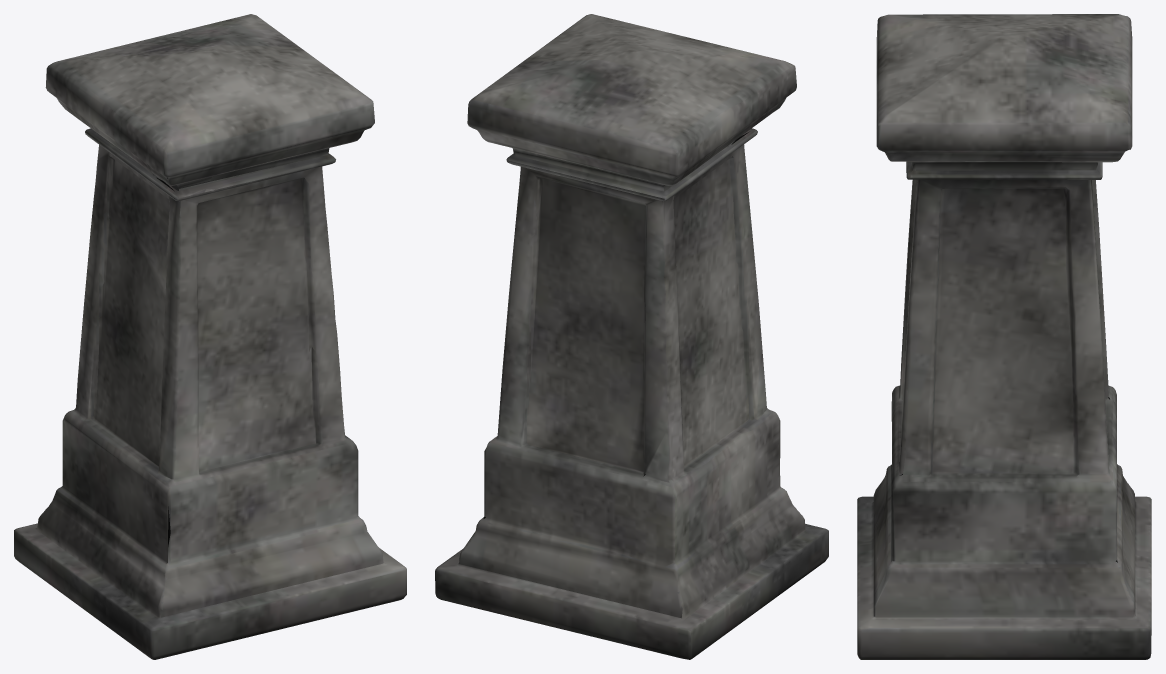
The model's file is old-granite-gate-pillar-v001.glb.
3 renders of one model, left to right at view 1: azimuth 30°, elevation 25°; view 2: azimuth 150°, elevation 25°; view 3: azimuth 270°, elevation 25°, orthographic. The views are drawn at different scales.
Parts seen in each view (by area): view 1: old-granite-gate-pillar; view 2: old-granite-gate-pillar; view 3: old-granite-gate-pillar.
Part boxes in pixels (x1=…): old-granite-gate-pillar: x1=14, y1=14, x2=406, y2=659; old-granite-gate-pillar: x1=435, y1=14, x2=828, y2=659; old-granite-gate-pillar: x1=857, y1=14, x2=1151, y2=659.
Size of the model in its own units: 1.1 by 2.16 by 1.03.
1 material, 1 textured.
